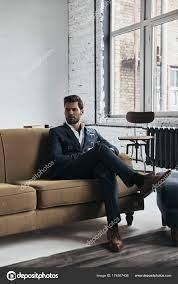FallenBody: (40, 89, 174, 258)
